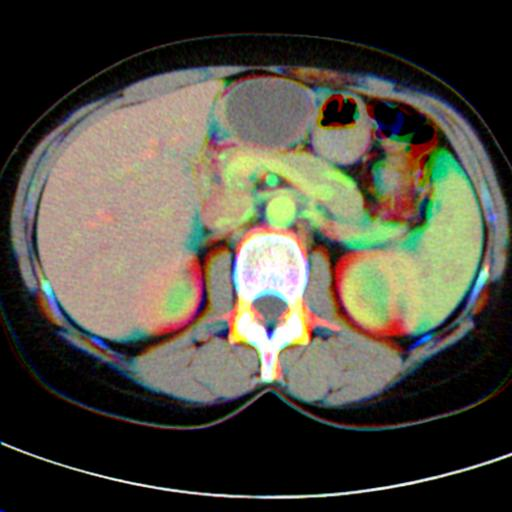Cyst: (223, 78, 313, 148)
